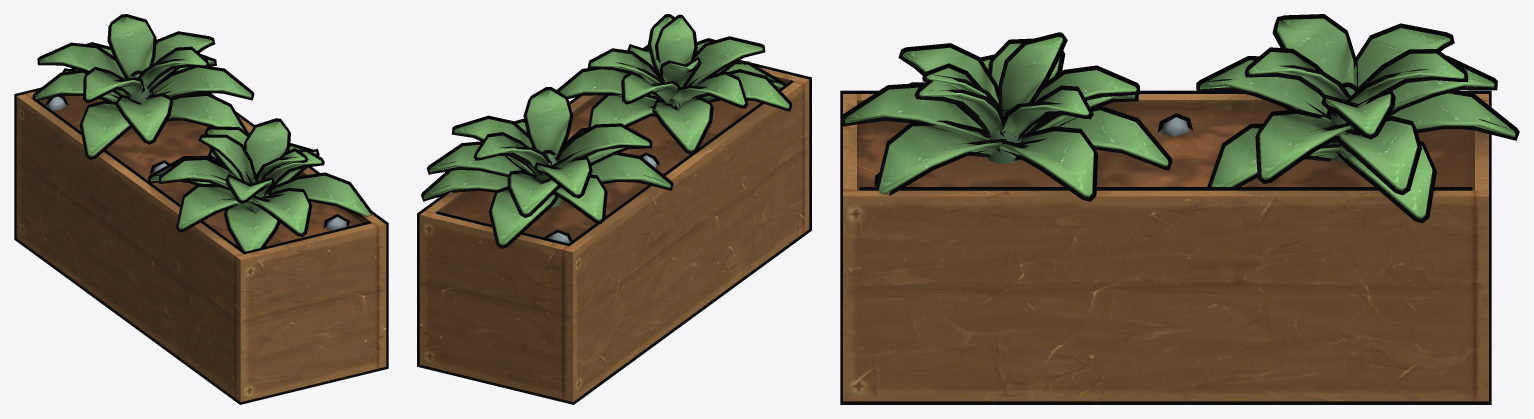
The model's file is Plant 2.fbx.
3 renders of one model, left to right at view 1: azimuth 30°, elevation 25°; view 2: azimuth 150°, elevation 25°; view 3: azimuth 270°, elevation 25°, orthographic. The views are drawn at different scales.
Parts seen in each view (by area): view 1: Plant 2; view 2: Plant 2; view 3: Plant 2.
Part boxes in pixels (box(x1,y1,x2,y2)): Plant 2: box(14, 14, 388, 404); Plant 2: box(417, 14, 811, 404); Plant 2: box(840, 14, 1519, 404).
Size of the model in its own units: 34.43 by 37.13 by 73.31.
